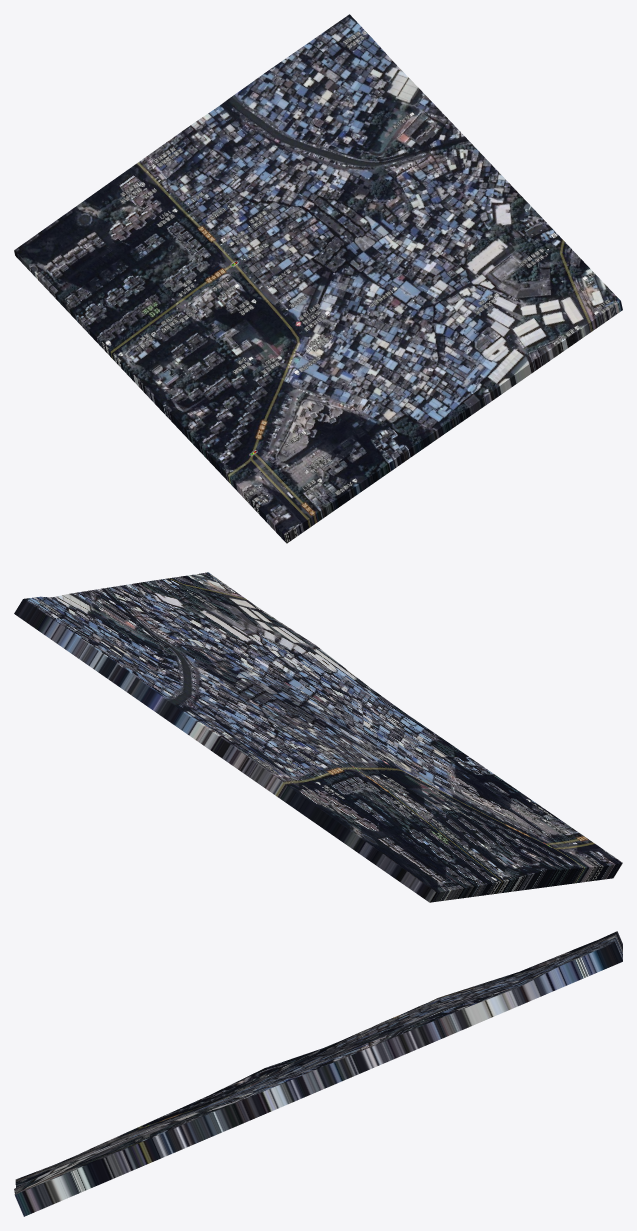
The picture shows the model from 3 angles, top to bottom: view 1: azimuth 30°, elevation 25°; view 2: azimuth 150°, elevation 25°; view 3: azimuth 270°, elevation 25°; orthographic projection. The views are drawn at different scales.
Parts seen in each view (by area): view 1: 0_17_22; view 2: 0_17_22; view 3: 0_17_22.
Boxes of the visible parts, left/top/right/bottom form: 0_17_22: left=14, top=14, right=622, bottom=543; 0_17_22: left=14, top=572, right=622, bottom=902; 0_17_22: left=14, top=931, right=622, bottom=1216.
Size of the model in its own units: 597 by 444 by 551.
Materials: 1 (1 with a texture image).
